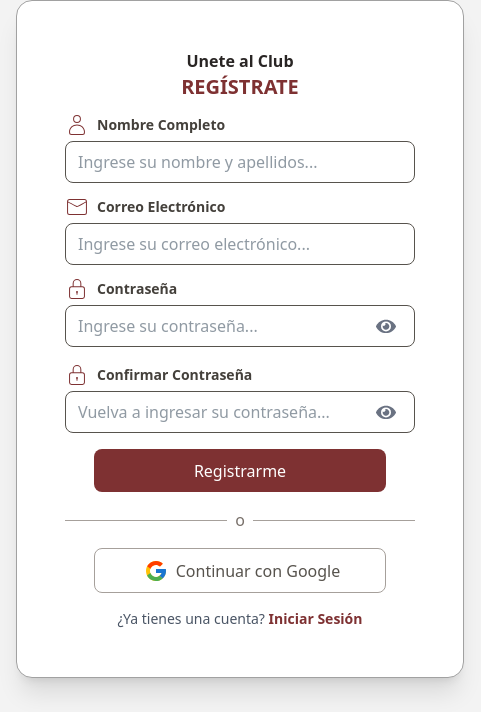
Registro › muestra estado de carga durante el registro
The image size is (481, 712).
Note: Llenar el formulario
Type "Juan Pérez" into the field with placeholder "Ingrese su nombre y apellidos..." at (240, 162), box [65,141,415,183]
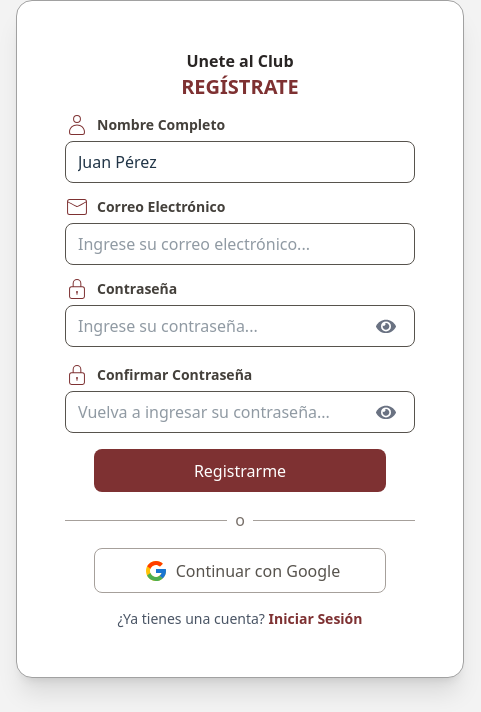
Type "juan@example.com" into the field with placeholder "Ingrese su correo electrónico..." at (240, 244), box [65,223,415,265]
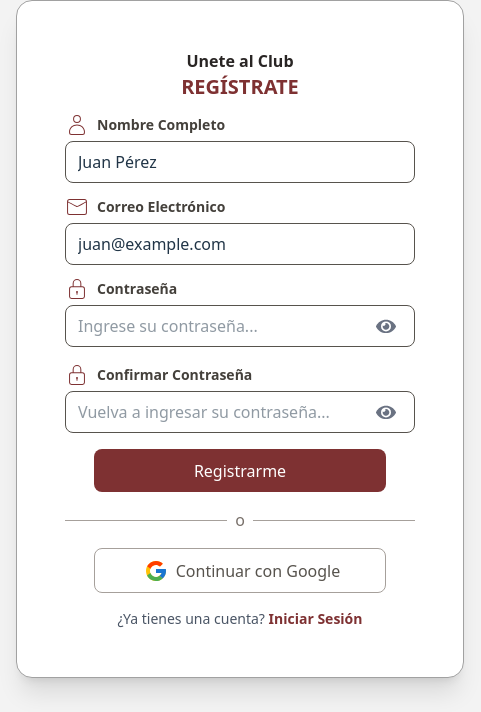
Type "password123" into the password field with placeholder "Ingrese su contraseña..." at (240, 326), box [65,305,415,347]
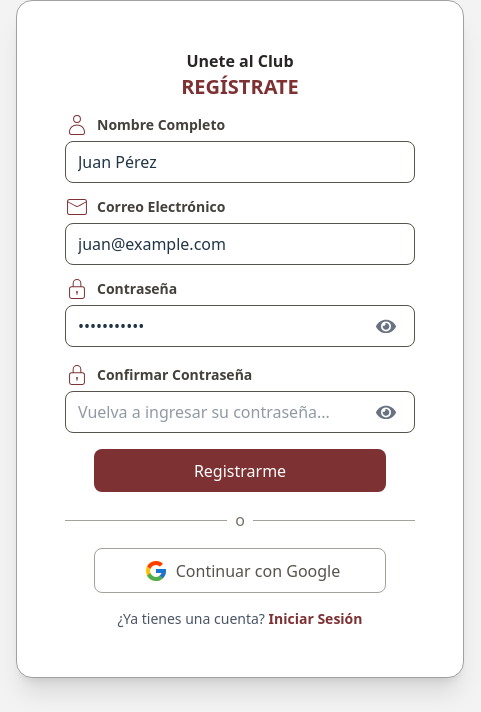
Type "password123" into the password field with placeholder "Vuelva a ingresar su contraseña..." at (240, 412), box [65,391,415,433]
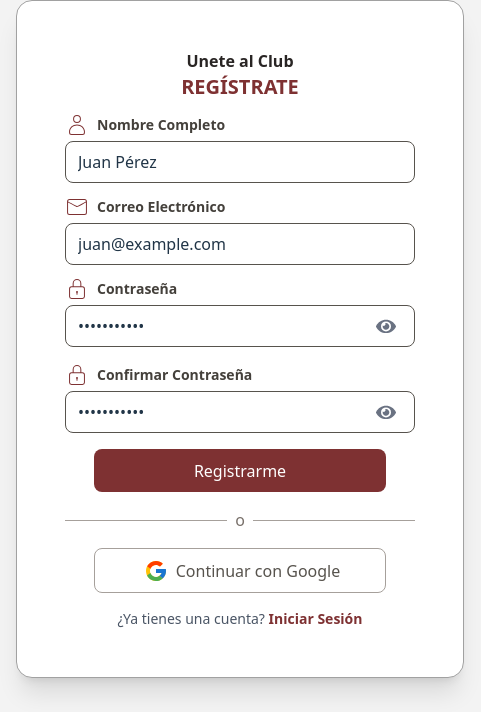
Note: Enviar formulario
Click the button "Registrarme" at (240, 471), box [94,449,386,492]
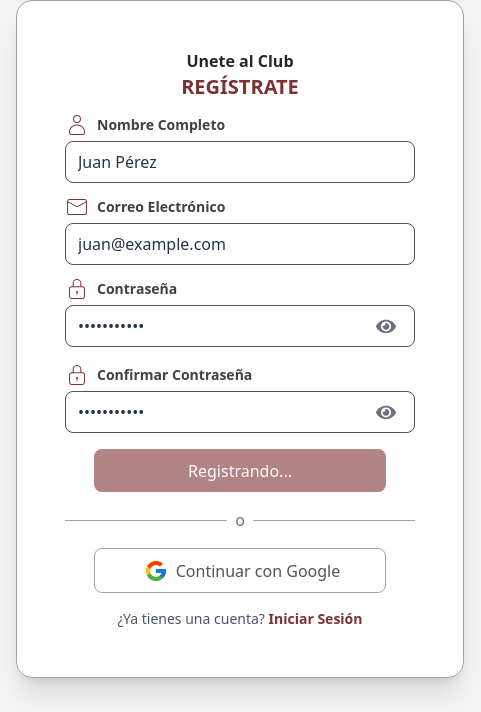
Check: the button "Registrando..." is disabled, box [94,449,386,492]
